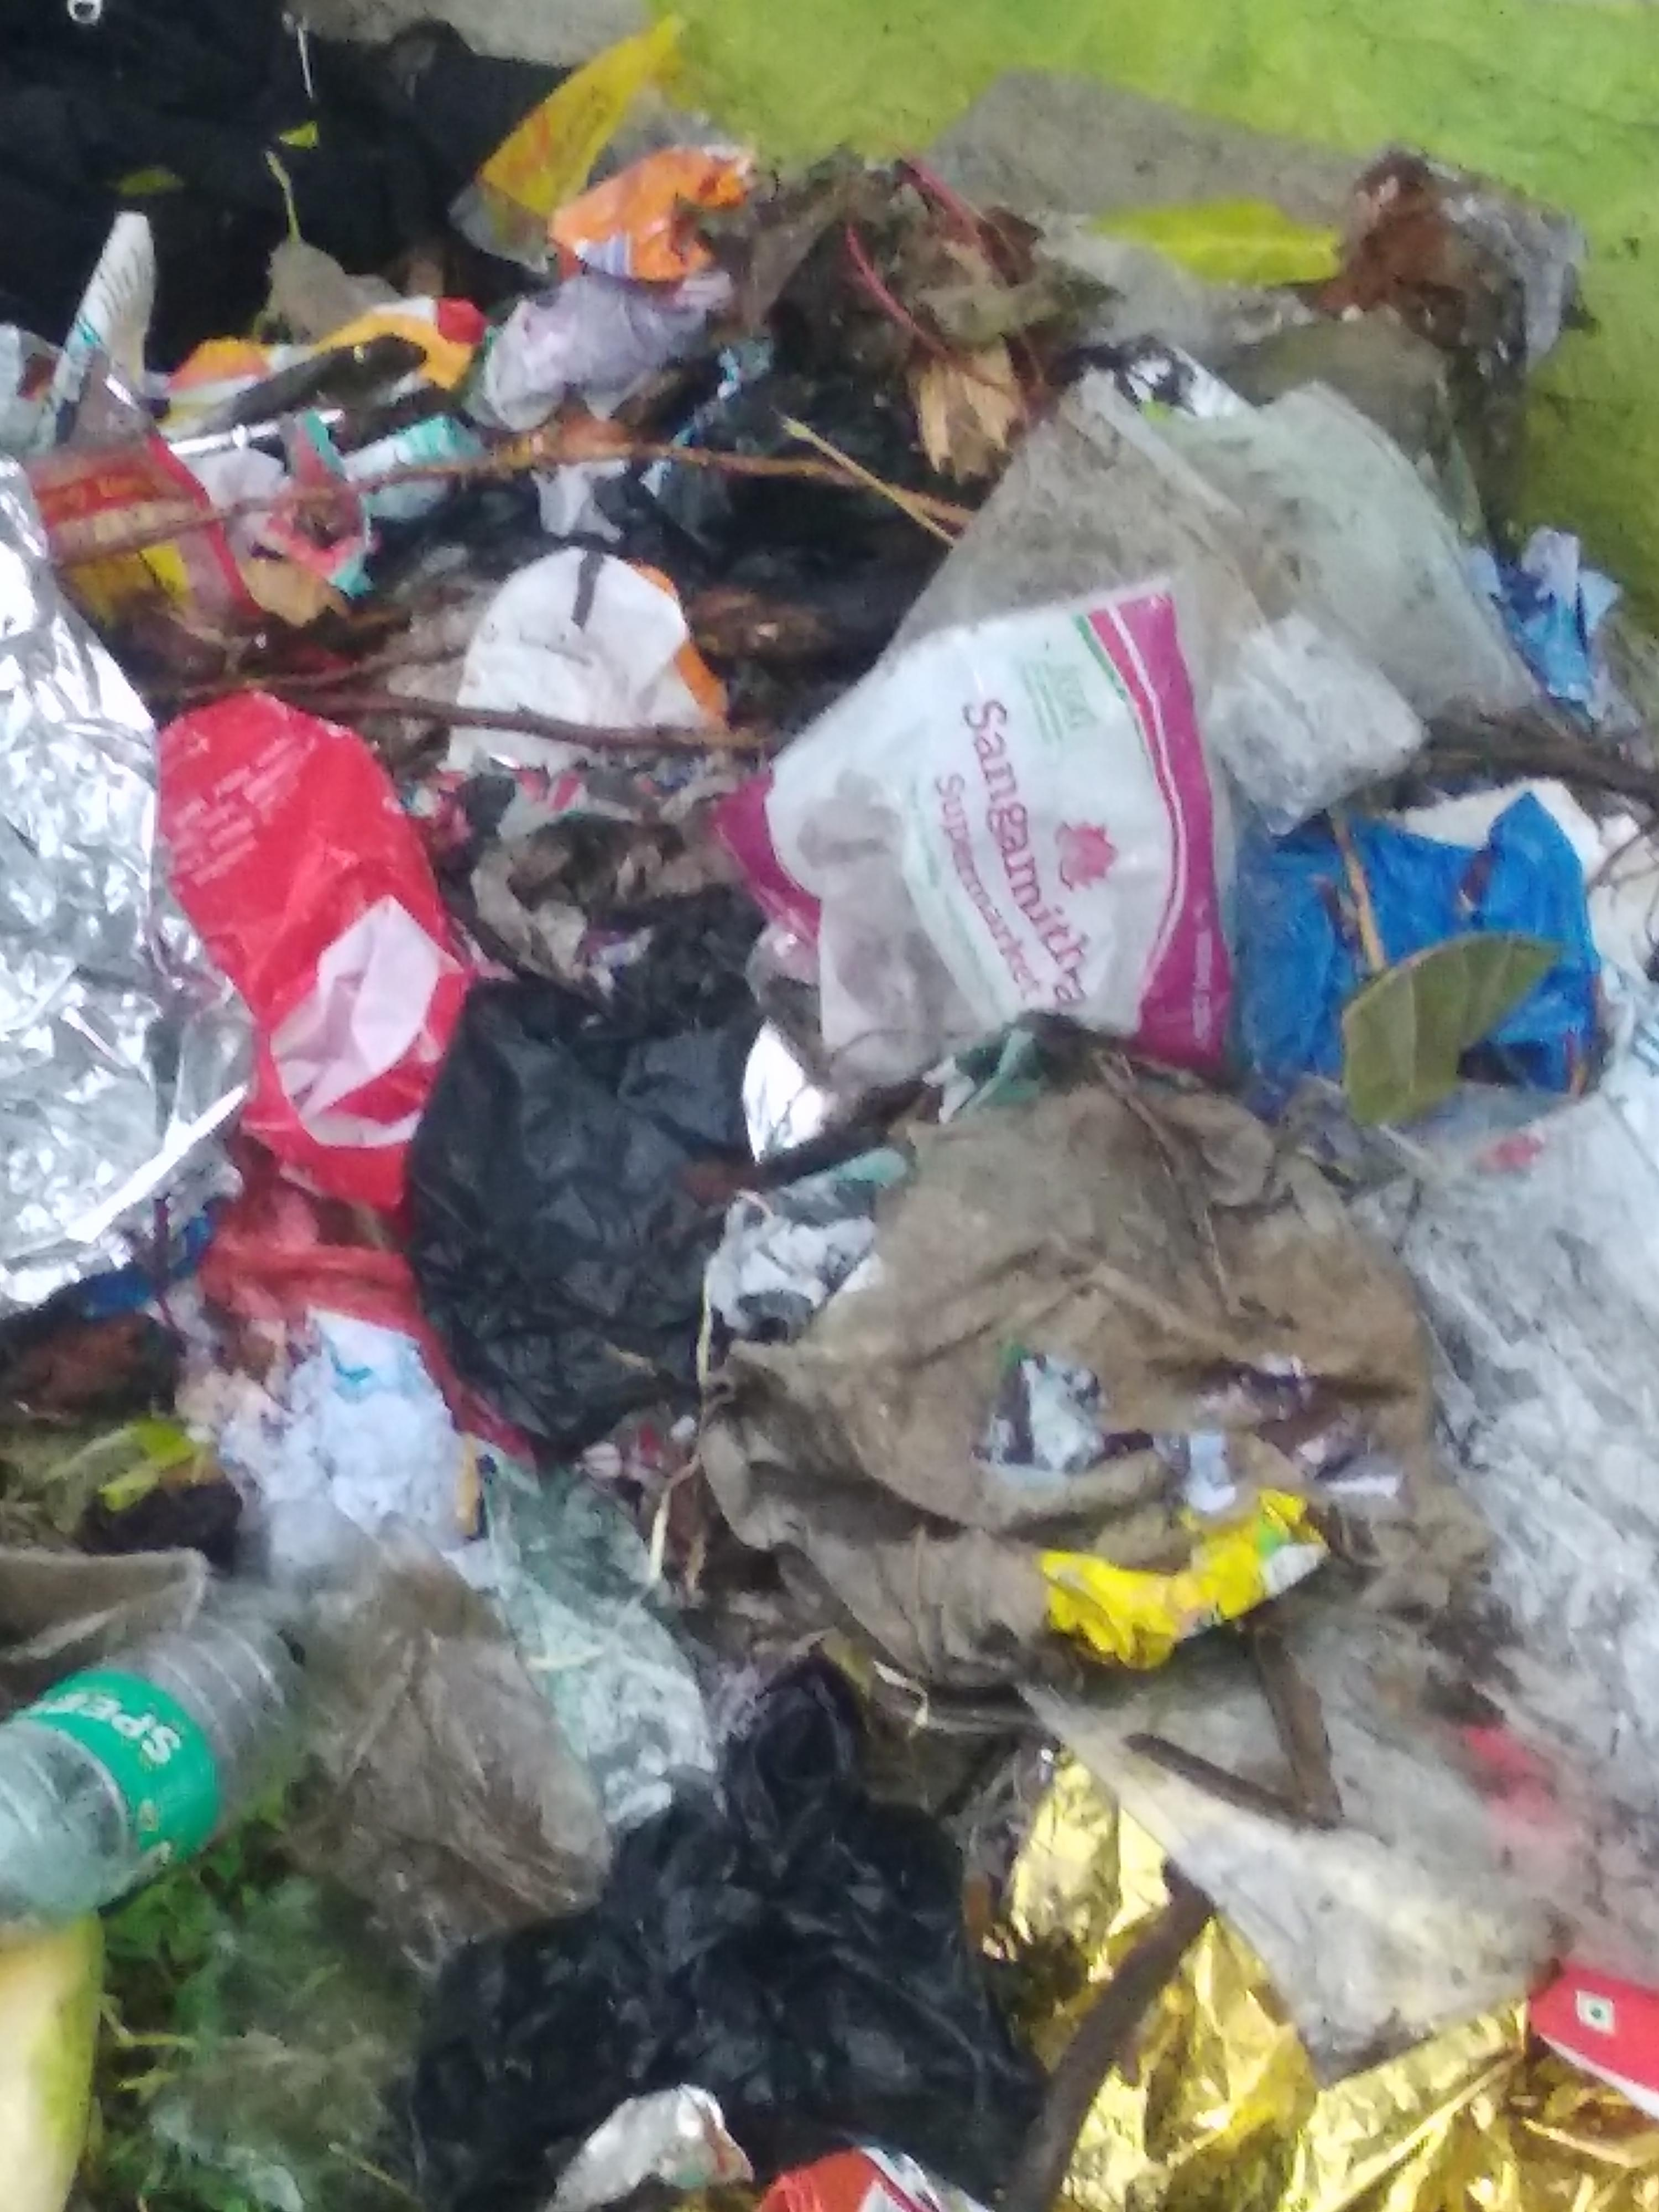organic: (0, 7, 1640, 2212)
